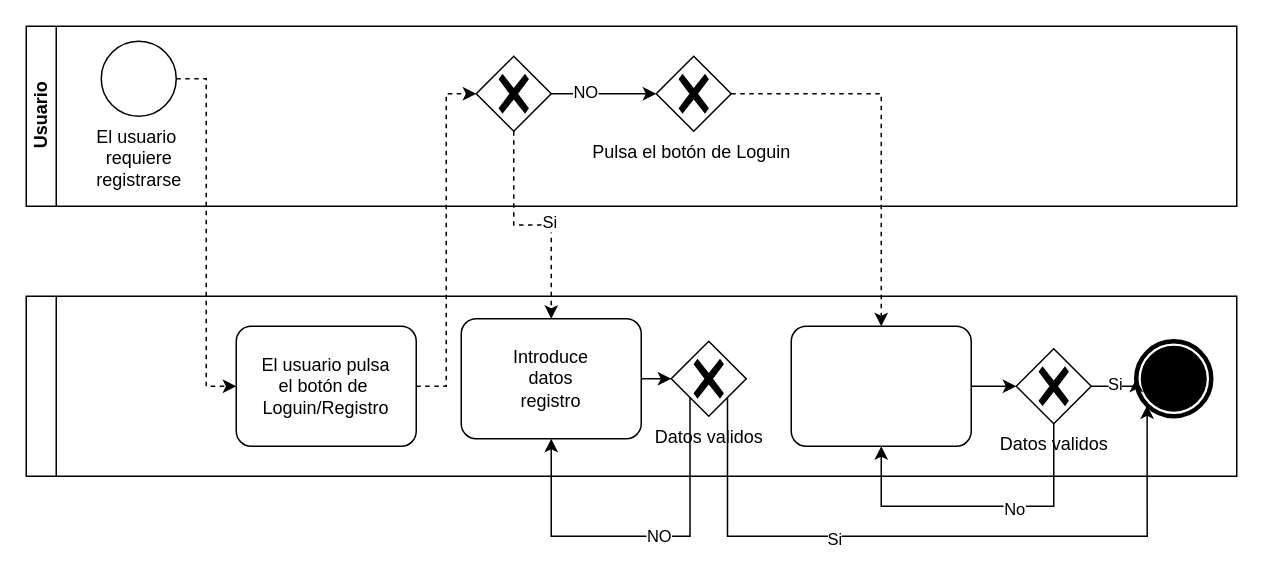
This 1263x575 diagram has some shape labels left out. The shapes that lost their labels are listed below. From the top down, each one's box as (x1, y1, x2, y2) in pixels, then its label:
(475, 55, 551, 131): Pulsa el botón de registro
(25, 295, 1237, 476): Pagina web
(790, 325, 971, 446): Introduce datos login
(1135, 340, 1211, 416): Sesión iniciada
